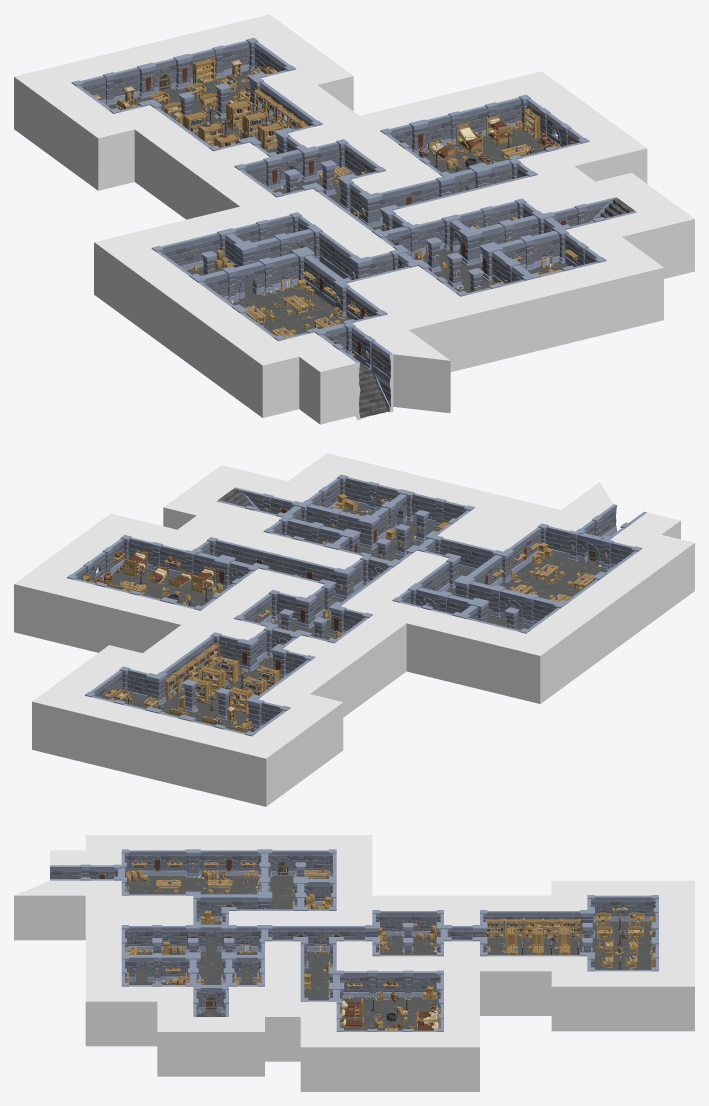
The model's file is map.glb.
3 renders of one model, top to bottom at view 1: azimuth 30°, elevation 25°; view 2: azimuth 150°, elevation 25°; view 3: azimuth 270°, elevation 25°, orthographic. The views are drawn at different scales.
Parts seen in each view (by area): view 1: Ceiling, Ground_Large.010, Stairs.001, Ground_Large.012, Wall.001, Wall.059, Wall_Door.013, Wall.038, Wall.124, Wall.125, Wall.100, Bunk_Bed_Ruined.001 (+5 smaller); view 2: Ceiling, Ground_Large.011, Ground_Large.001, Wall.062, Wall.017, Wall_Door.016, Wall_Door.012, Wall.119, Wall.074, Wall.131, Wall.031, Wall.012; view 3: Ceiling, Ground_Large.009, Ground_Large.013, Ground_Large.011, Ground_Large.012, Ground_Large.004, Ground_Large.007, Wall.050, Wall.061, Wall.030, Wall.123, Wall.132 (+22 smaller).
Part boxes in pixels (x1,y1,x2,y2): Ceiling: (14, 14, 694, 424); Ground_Large.010: (234, 285, 334, 329); Stairs.001: (359, 369, 389, 418); Ground_Large.012: (158, 78, 249, 119); Wall.001: (532, 232, 560, 267); Wall.059: (271, 254, 299, 289); Wall_Door.013: (235, 263, 265, 299); Wall.038: (188, 233, 220, 269); Wall.124: (222, 40, 249, 75); Wall.125: (112, 67, 140, 102); Wall.100: (425, 115, 451, 147); Bunk_Bed_Ruined.001: (455, 122, 482, 156); Ceiling: (14, 453, 694, 806); Ground_Large.011: (537, 561, 607, 595); Ground_Large.001: (102, 566, 178, 598); Wall.062: (545, 526, 570, 558); Wall.017: (345, 477, 369, 509); Wall_Door.016: (576, 533, 604, 566); Wall_Door.012: (499, 590, 526, 623); Wall.119: (159, 545, 187, 576); Wall.074: (276, 554, 310, 578); Wall.131: (127, 669, 148, 700); Wall.031: (440, 538, 469, 571); Wall.012: (412, 493, 436, 525); Ceiling: (14, 835, 694, 1091); Ground_Large.009: (372, 997, 438, 1025); Ground_Large.013: (591, 921, 652, 950); Ground_Large.011: (126, 875, 193, 894); Ground_Large.012: (592, 950, 651, 969); Ground_Large.004: (199, 950, 257, 980); Ground_Large.007: (269, 875, 328, 904); Wall.050: (157, 850, 187, 875); Wall.061: (300, 926, 336, 951); Wall.030: (229, 850, 259, 875); Wall.123: (623, 895, 653, 921); Wall.132: (375, 971, 405, 997).
Bounding box in the file's own units: 14 × 1.53 × 19.
6 materials, 4 textured.
